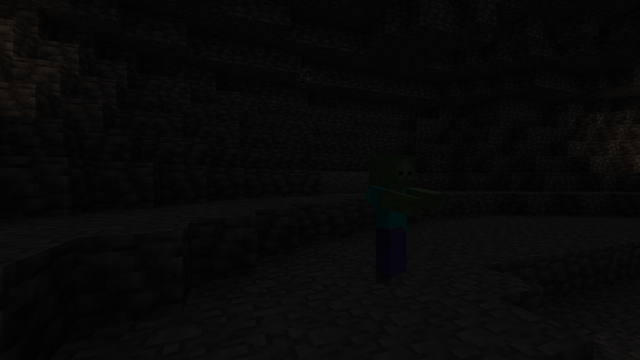zombies: (365, 157, 418, 290)
